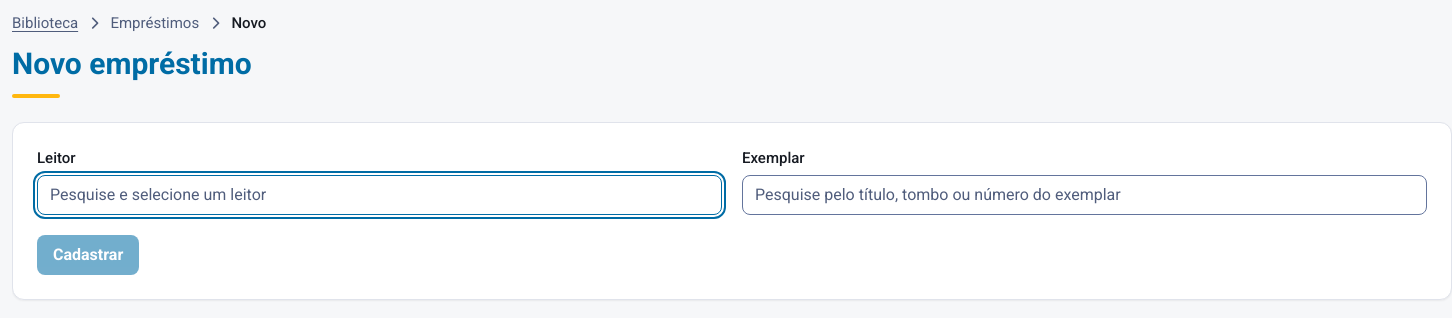
it: novo empréstimo autocomplete › selects a reader using clicio fogaca
The width and height of the screenshot is (1452, 318).
Type "clicio fogaca" into the dropdown with id "leitor". click: (380, 195)
box: [37, 175, 722, 215]
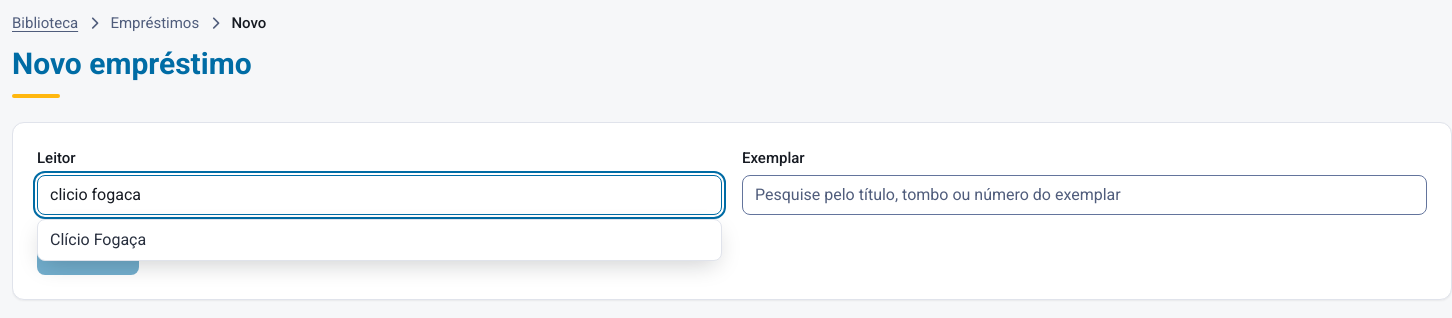
Click the option "Clício Fogaça". click: (98, 240)
box: [38, 220, 721, 260]
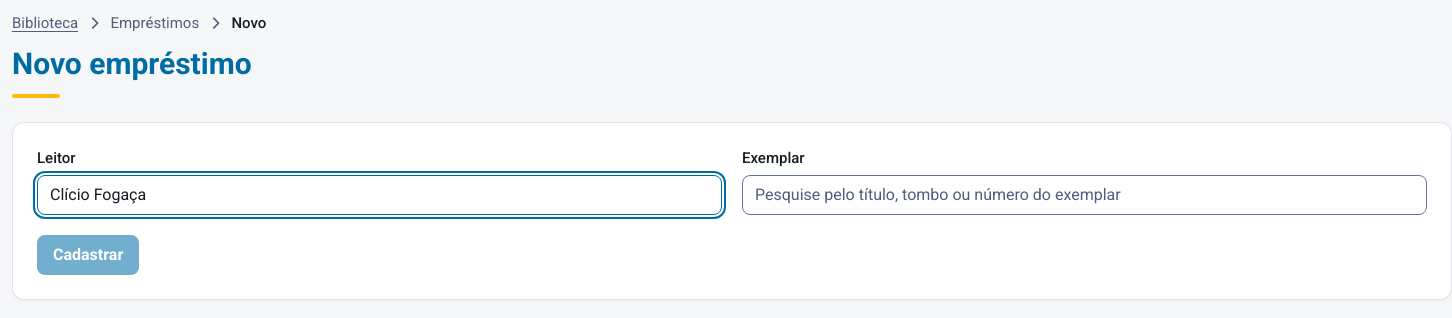
Expected: the submit button is disabled, [37, 235, 139, 275]
Now the dropdown with id "leitor" holds "Clício Fogaça", box [37, 175, 722, 215]
